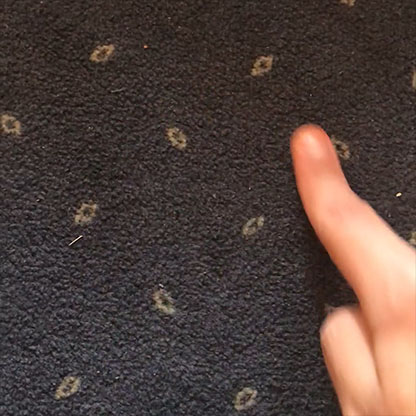fingertip: (282, 113, 344, 167)
